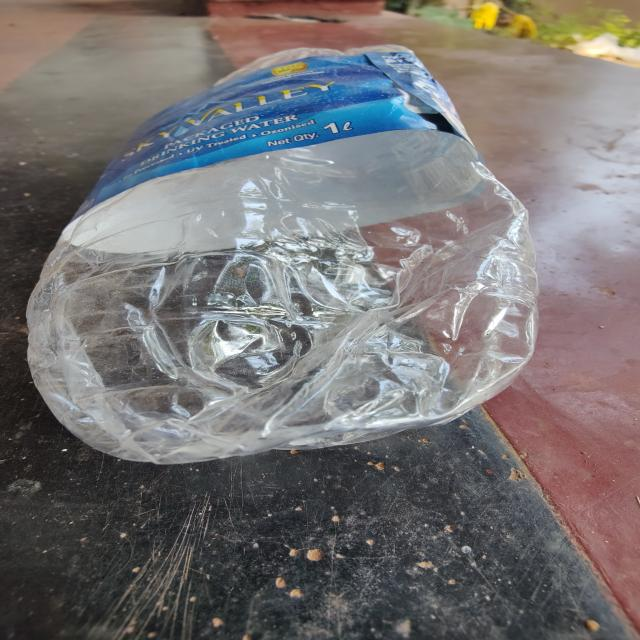plastic: (30, 39, 539, 470)
